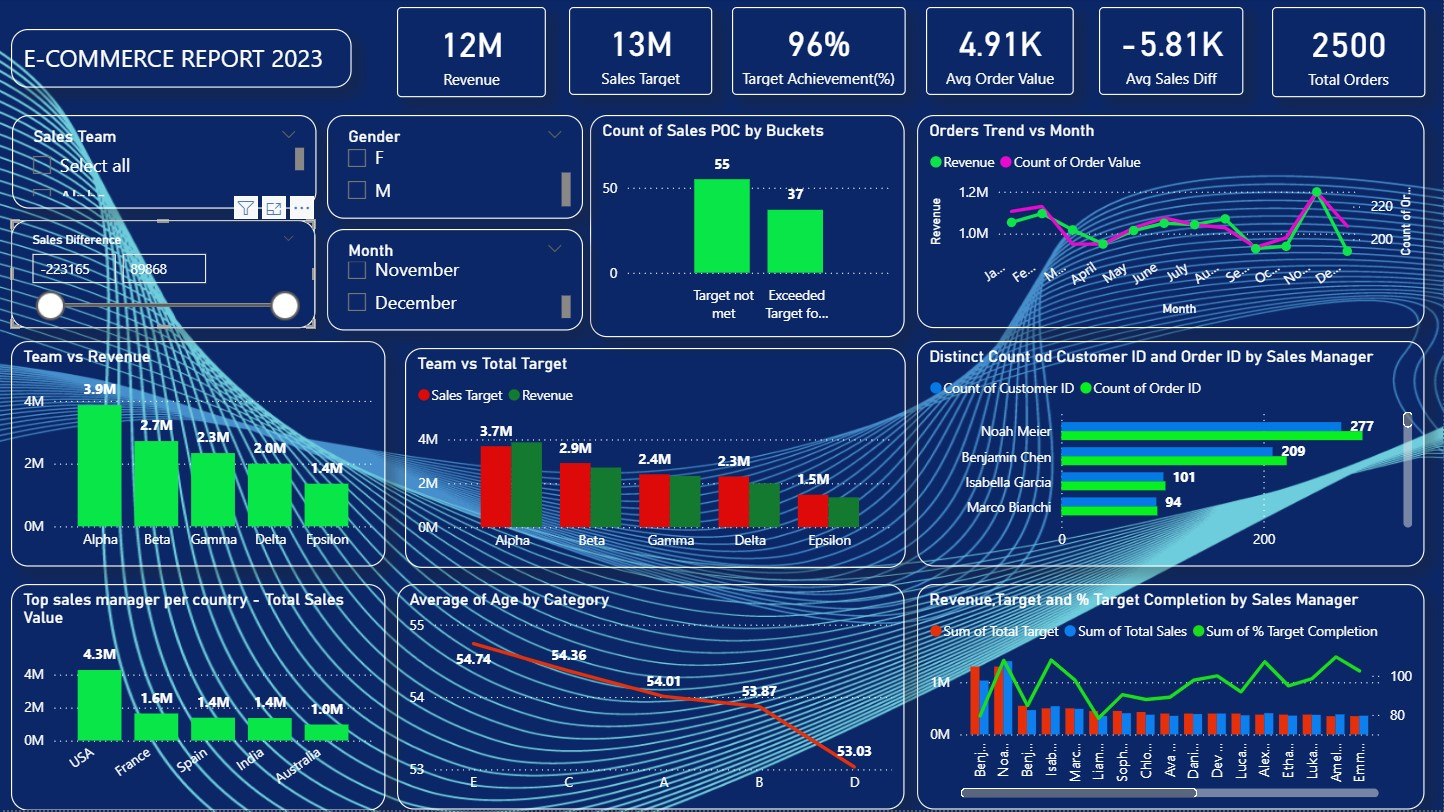

The page's visual inventory and layout, read from the dashboard file:
{"tool":"powerbi","page":{"name":"Page 1","canvas":[1280,720],"ordinal":0},"visuals":[{"type":"card","fields":{"Values":["Customers.Revenue"]},"box":[352.1,7.8,132.3,79.8],"z":0},{"type":"card","fields":{"Values":["Customers.Total Orders"]},"box":[1128.1,8,135.9,79.9],"z":1000},{"type":"card","fields":{"Values":["Customers.Sales Target"]},"box":[504.8,7.8,127.4,77.8],"z":2000},{"type":"card","fields":{"Values":["Customers.Target Achievement(%)"]},"box":[648.8,7.8,153.7,77.8],"z":3000},{"type":"columnChart","title":"Top sales manager per country - Total Sales Value","fields":{"Category":["Customers.Customer Country"],"Y":["Customers.Revenue"]},"box":[10,519.6,331.7,200.8],"z":4000},{"type":"lineChart","title":"Orders Trend vs Month","fields":{"Category":["Orders.Order Datetime.Variation.Date Hierarchy.Month"],"Y2":["Orders.Order Value"],"Y":["Customers.Revenue"]},"box":[813.1,104.1,450.3,188.7],"z":5000},{"type":"columnChart","fields":{"Category":["Sales Targets.Buckets"],"Y":["Sales Targets.Sales POC"]},"box":[523.6,103.9,278.8,196.8],"z":6000},{"type":"clusteredColumnChart","title":"Team vs Revenue","fields":{"Category":["Sales Targets.Sales Team"],"Y":["Customers.Revenue"]},"box":[9.7,304.4,331.7,200.4],"z":7000},{"type":"card","fields":{"Values":["Customers.Avg Order Value"]},"box":[820.9,7.8,131.3,77.8],"z":8000},{"type":"card","fields":{"Values":["Customers.Avg Sales Diff"]},"box":[974.6,7.8,128.4,77.8],"z":9000},{"type":"lineClusteredColumnComboChart","title":"Revenue,Target and % Target Completion by Sales Manager","fields":{"Category":["Sales Manager Target Completion.Sales Manager"],"Y":["Sales Manager Target Completion.Total Target","Sales Manager Target Completion.Total Sales"],"Y2":["Sales Manager Target Completion.% Target Completion"]},"box":[813.1,519.4,450.3,200.4],"z":10000},{"type":"clusteredBarChart","title":"Distinct Count od Customer ID and Order ID by Sales Manager","fields":{"Category":["Sales Targets.Sales Manager"],"Y":["Orders.Customer ID","Orders.Order ID"]},"box":[813.1,304.4,450.3,200.4],"z":11000},{"type":"slicer","fields":{"Values":["Sales Targets.Sales Difference"]},"box":[9.8,196.8,269.6,95.8],"z":12000},{"type":"lineChart","fields":{"Category":["Customers.Category"],"Y":["Customers.Age"]},"box":[352.1,519.4,450.3,200.4],"z":13000},{"type":"slicer","fields":{"Values":["Sales Targets.Sales Team"]},"box":[10.4,103.9,270.2,83.1],"z":14000},{"type":"textbox","box":[9.7,27.2,302.5,51.6],"z":15000},{"type":"clusteredColumnChart","title":"Team vs Total Target","fields":{"Category":["Sales Targets.Sales Team"],"Y":["Customers.Sales Target","Customers.Revenue"]},"box":[358.7,310.8,443.7,194.8],"z":15500},{"type":"slicer","fields":{"Values":["Customers.Gender"]},"box":[289.8,103.9,226.8,91.9],"z":15501},{"type":"slicer","fields":{"Values":["Orders.Order Datetime.Variation.Date Hierarchy.Month"]},"box":[289.8,204.8,226.8,89.9],"z":15502}]}

Visuals, with their boxes in screenshot pixels (x1, y1, x2, y2), scaled from the page's 1280x720 canvas onto the 1444x812 screenshot:
card - Customers.Revenue: locate(397, 9, 546, 99)
card - Customers.Total Orders: locate(1273, 9, 1426, 99)
card - Customers.Sales Target: locate(569, 9, 713, 97)
card - Customers.Target Achievement(%): locate(732, 9, 905, 97)
"Top sales manager per country - Total Sales Value" columnChart: locate(11, 586, 385, 811)
"Orders Trend vs Month" lineChart: locate(917, 117, 1425, 330)
columnChart - Sales Targets.Buckets x Sales Targets.Sales POC: locate(591, 117, 905, 339)
"Team vs Revenue" clusteredColumnChart: locate(11, 343, 385, 569)
card - Customers.Avg Order Value: locate(926, 9, 1074, 97)
card - Customers.Avg Sales Diff: locate(1099, 9, 1244, 97)
"Revenue,Target and % Target Completion by Sales Manager" lineClusteredColumnComboChart: locate(917, 586, 1425, 811)
"Distinct Count od Customer ID and Order ID by Sales Manager" clusteredBarChart: locate(917, 343, 1425, 569)
slicer - Sales Targets.Sales Difference: locate(11, 222, 315, 330)
lineChart - Customers.Category x Customers.Age: locate(397, 586, 905, 811)
slicer - Sales Targets.Sales Team: locate(12, 117, 317, 211)
textbox: locate(11, 31, 352, 89)
"Team vs Total Target" clusteredColumnChart: locate(405, 351, 905, 570)
slicer - Customers.Gender: locate(327, 117, 583, 221)
slicer - Orders.Order Datetime.Variation.Date Hierarchy.Month: locate(327, 231, 583, 332)
